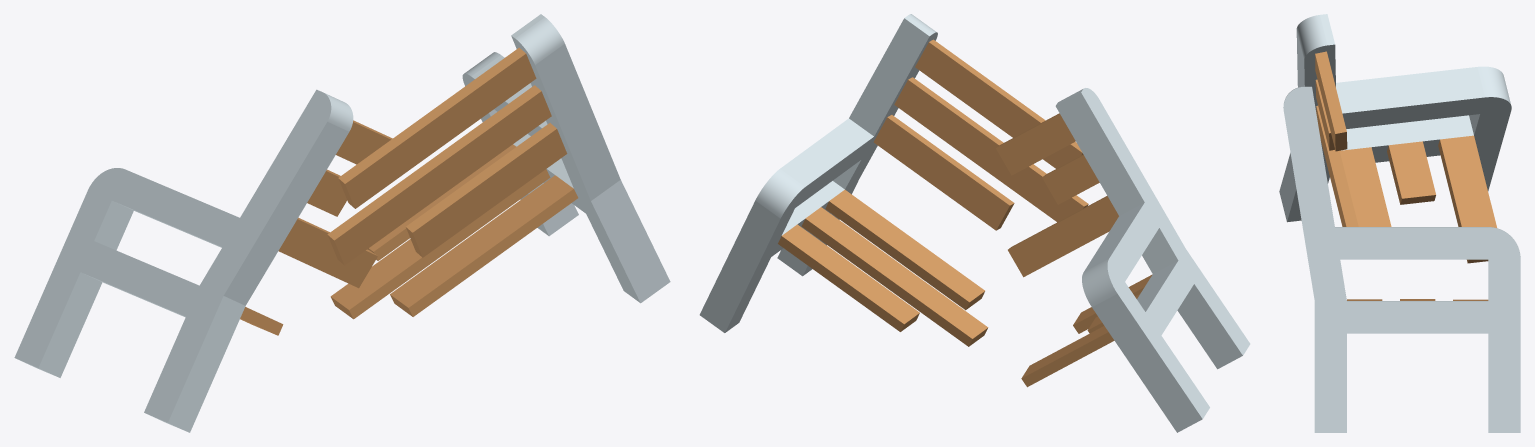
File: benchBroken.fbx
3 renders of one model, left to right at view 1: azimuth 30°, elevation 25°; view 2: azimuth 150°, elevation 25°; view 3: azimuth 270°, elevation 25°, orthographic. The views are drawn at different scales.
Visible parts, largest first — view 1: benchBroken %8angles; view 2: benchBroken %8angles; view 3: benchBroken %8angles.
Boxes of the visible parts, bbox=[...] form: benchBroken %8angles: bbox=[14, 14, 670, 432]; benchBroken %8angles: bbox=[699, 14, 1250, 432]; benchBroken %8angles: bbox=[1279, 14, 1520, 432].
Size of the model in its own units: 9.9 by 5.32 by 3.83.
